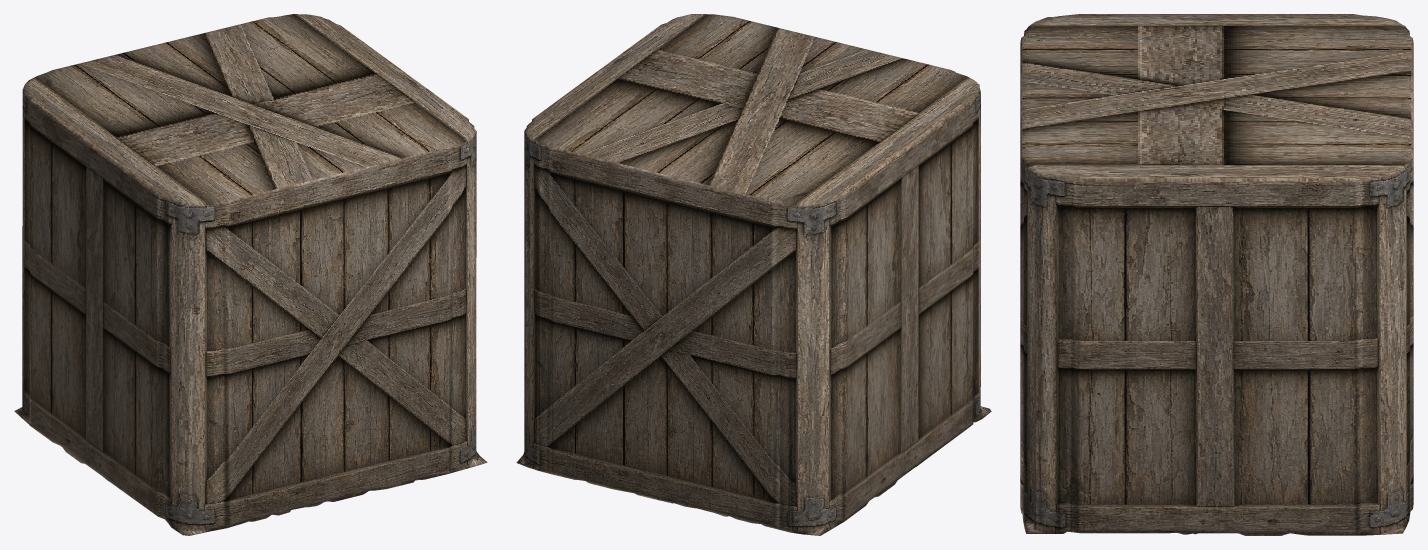
Rendered from crate_high.glb.
3 views of the same model, side by side, from view 1: azimuth 30°, elevation 25°; view 2: azimuth 150°, elevation 25°; view 3: azimuth 270°, elevation 25° (orthographic). The views are drawn at different scales.
Parts seen in each view (by area): view 1: crate_high; view 2: crate_high; view 3: crate_high.
Boxes of the visible parts, x1,y1,x2,y2 form: crate_high: (14,14,487,535); crate_high: (516,14,991,535); crate_high: (1020,14,1413,535).
Size of the model in its own units: 0.7928 by 0.7971 by 0.7928.
1 material, 1 textured.
